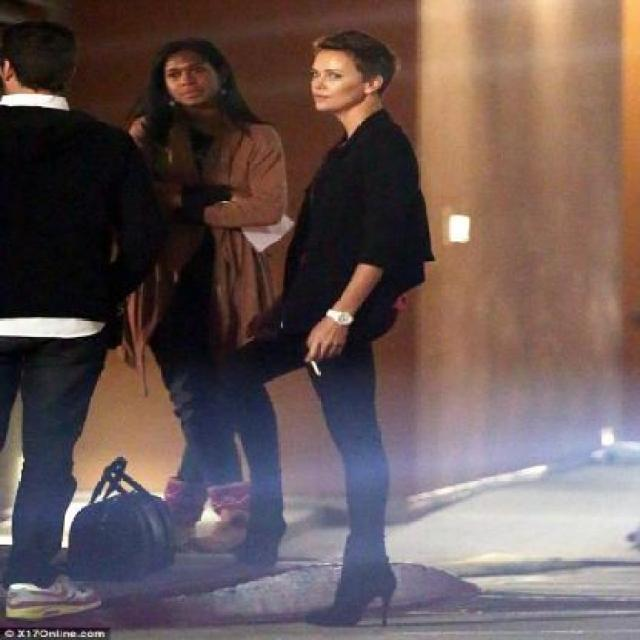cigarette: (308, 358, 324, 378)
